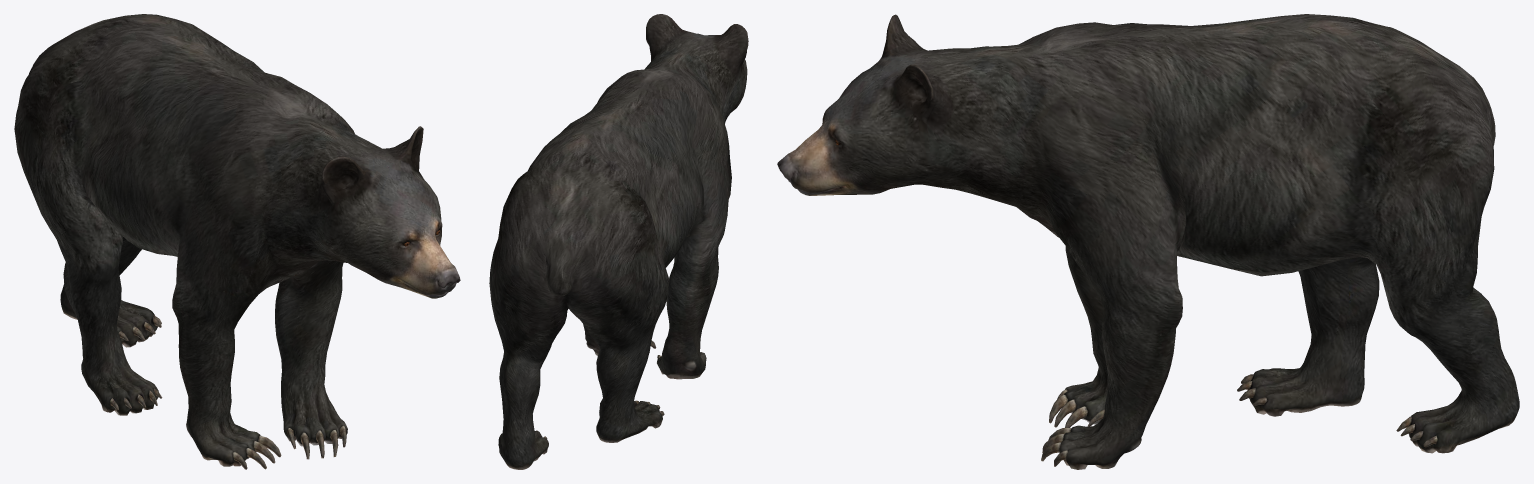
File: a_bear.glb
The picture shows the model from 3 angles, left to right: view 1: azimuth 30°, elevation 25°; view 2: azimuth 150°, elevation 25°; view 3: azimuth 270°, elevation 25°; orthographic projection. The views are drawn at different scales.
Parts seen in each view (by area): view 1: Goose.003_applied_clean_M_Goose2_0_M_Bear_0; view 2: Goose.003_applied_clean_M_Goose2_0_M_Bear_0; view 3: Goose.003_applied_clean_M_Goose2_0_M_Bear_0.
Part boxes in pixels (x1=…): Goose.003_applied_clean_M_Goose2_0_M_Bear_0: x1=14, y1=14, x2=460, y2=469; Goose.003_applied_clean_M_Goose2_0_M_Bear_0: x1=489, y1=14, x2=748, y2=469; Goose.003_applied_clean_M_Goose2_0_M_Bear_0: x1=777, y1=14, x2=1519, y2=469.
Bounding box in the file's own units: 0.7029 × 1.17 × 1.9.
Materials: 1 (1 with a texture image).
